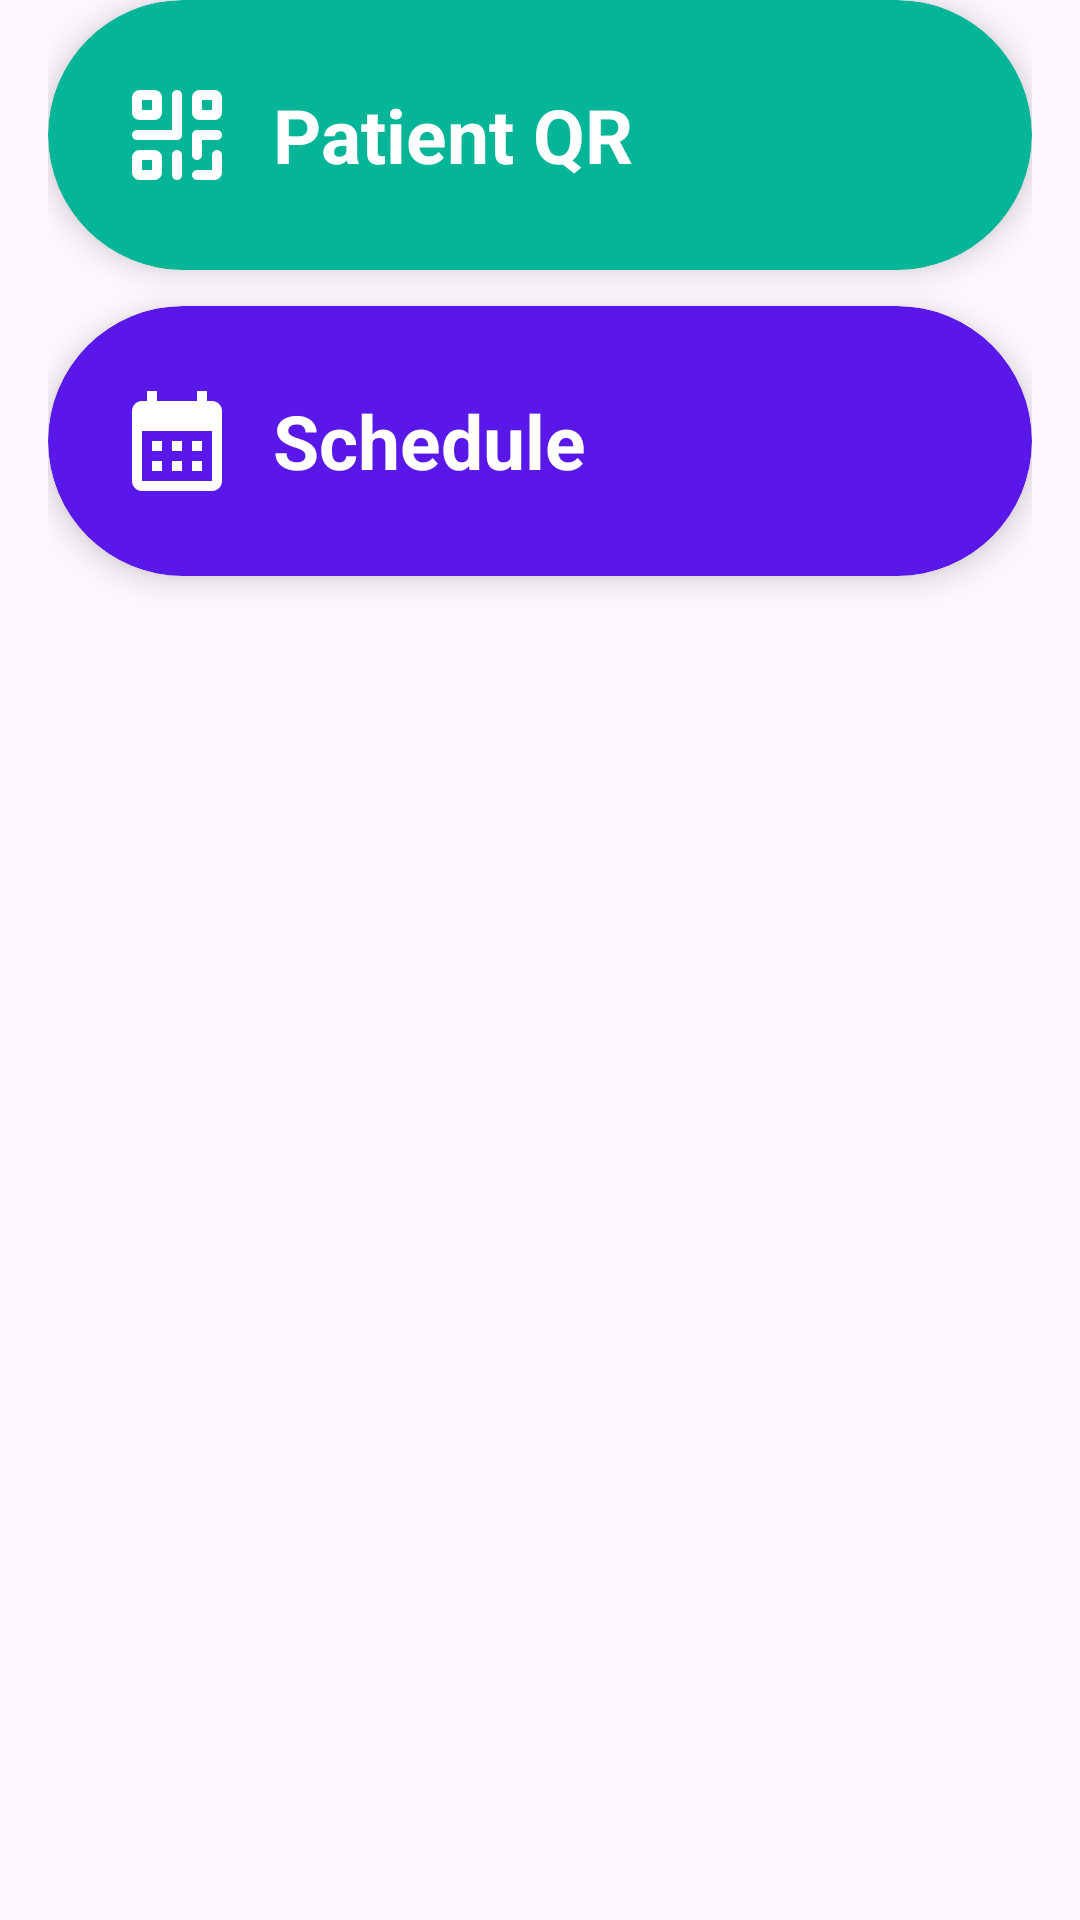

Named icons in this screenshot (1080 × 1920) and their bounding boxes, (x1, y1, x2, y2):
calendar: (132, 391, 222, 491)
